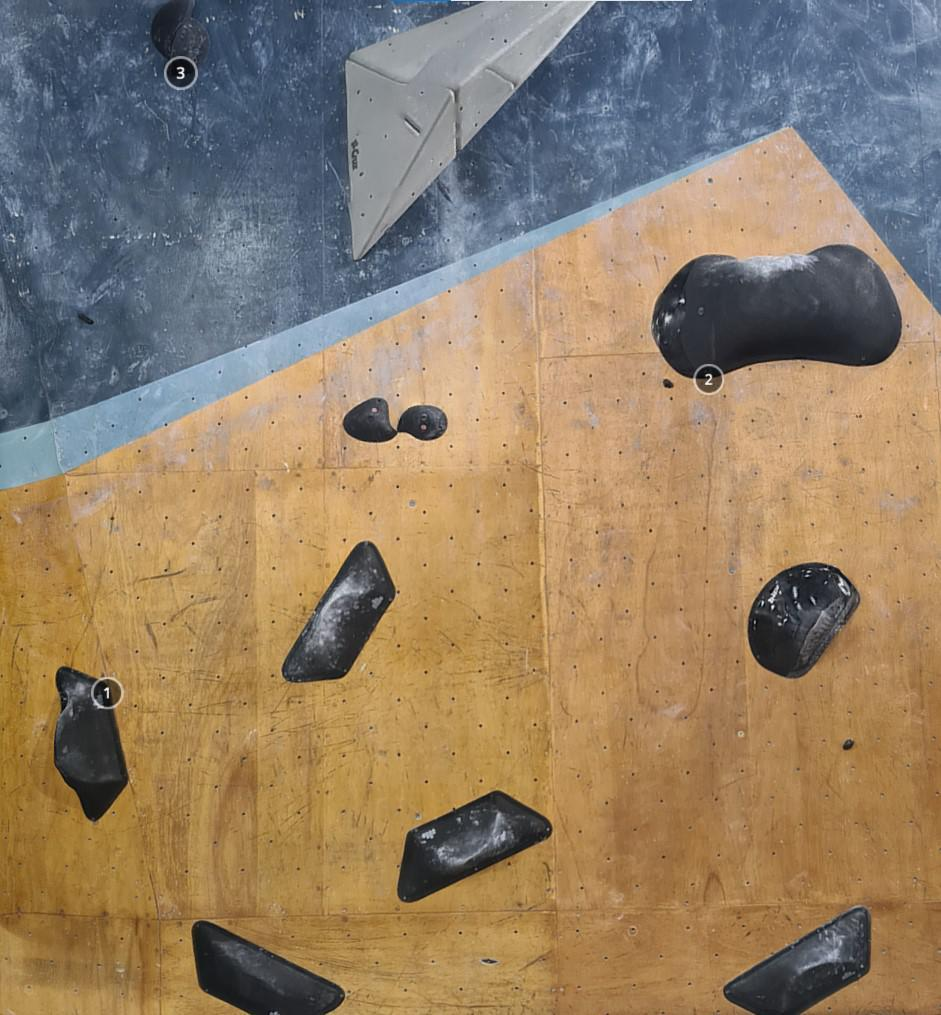hold: (651, 244, 902, 378), (397, 790, 552, 902), (723, 905, 871, 1015), (281, 541, 396, 682), (192, 920, 345, 1015), (748, 562, 860, 678), (54, 666, 129, 822), (150, 1, 193, 61), (344, 397, 397, 442), (171, 17, 210, 76), (397, 405, 448, 440), (842, 739, 855, 751)
volume: (345, 0, 598, 261)
